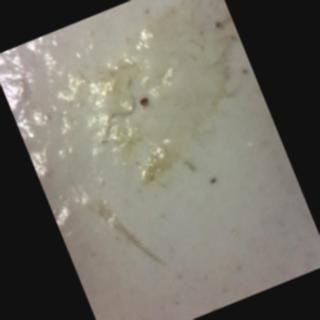Microplastic: (93, 95, 145, 138)
